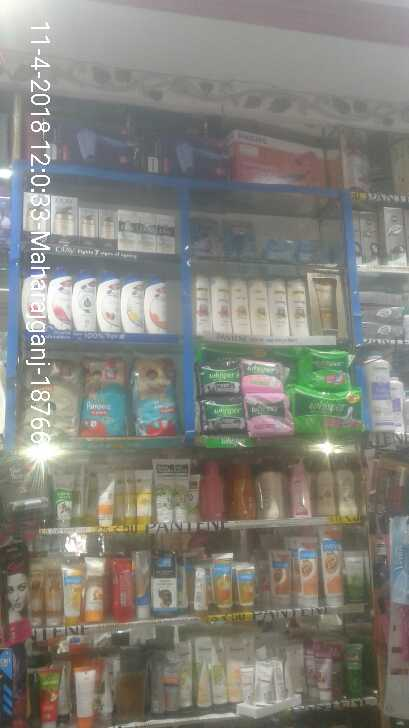venus: (224, 220, 255, 256), (192, 217, 220, 255), (261, 239, 295, 262), (299, 240, 321, 262)
